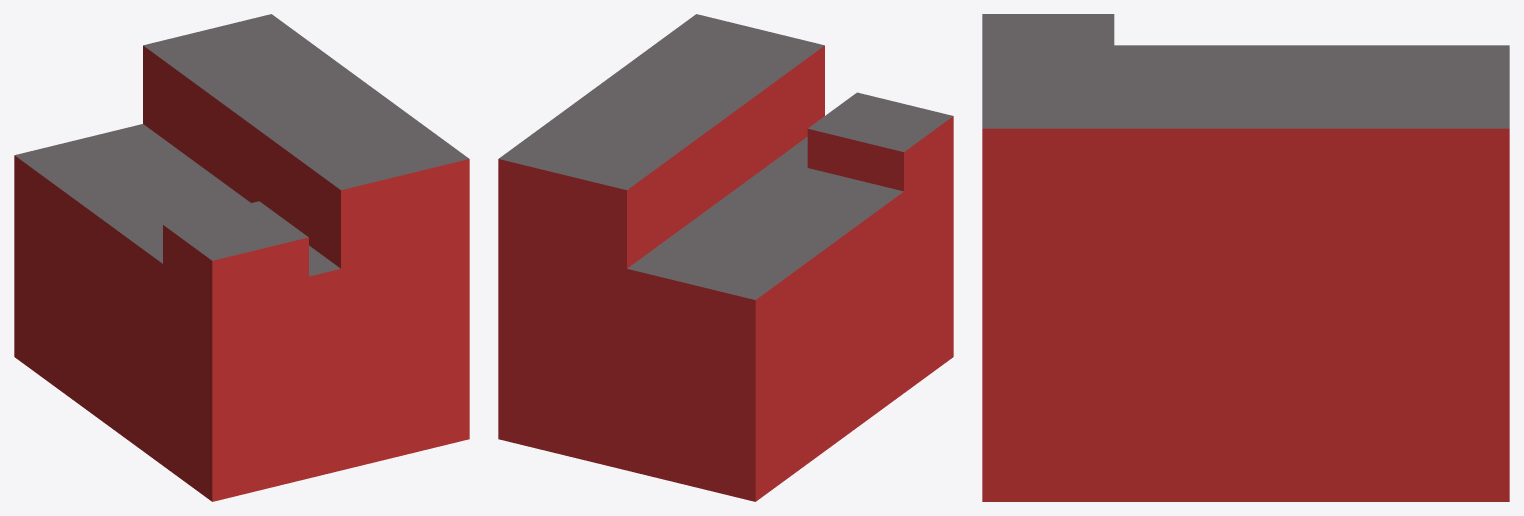
File: Building1.fbx
3 renders of one model, left to right at view 1: azimuth 30°, elevation 25°; view 2: azimuth 150°, elevation 25°; view 3: azimuth 270°, elevation 25°, orthographic. The views are drawn at different scales.
Visible parts, largest first — view 1: Building1; view 2: Building1; view 3: Building1.
Part boxes in pixels (<box>): Building1: <box>14,14,469,501</box>; Building1: <box>498,14,953,501</box>; Building1: <box>982,14,1509,501</box>.
Bounding box in the file's own units: 1200 × 1250 × 1600.
